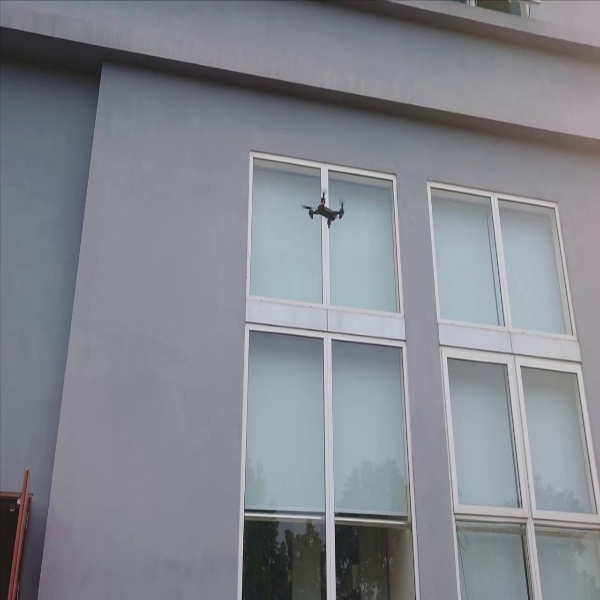drone: (293, 180, 352, 232)
